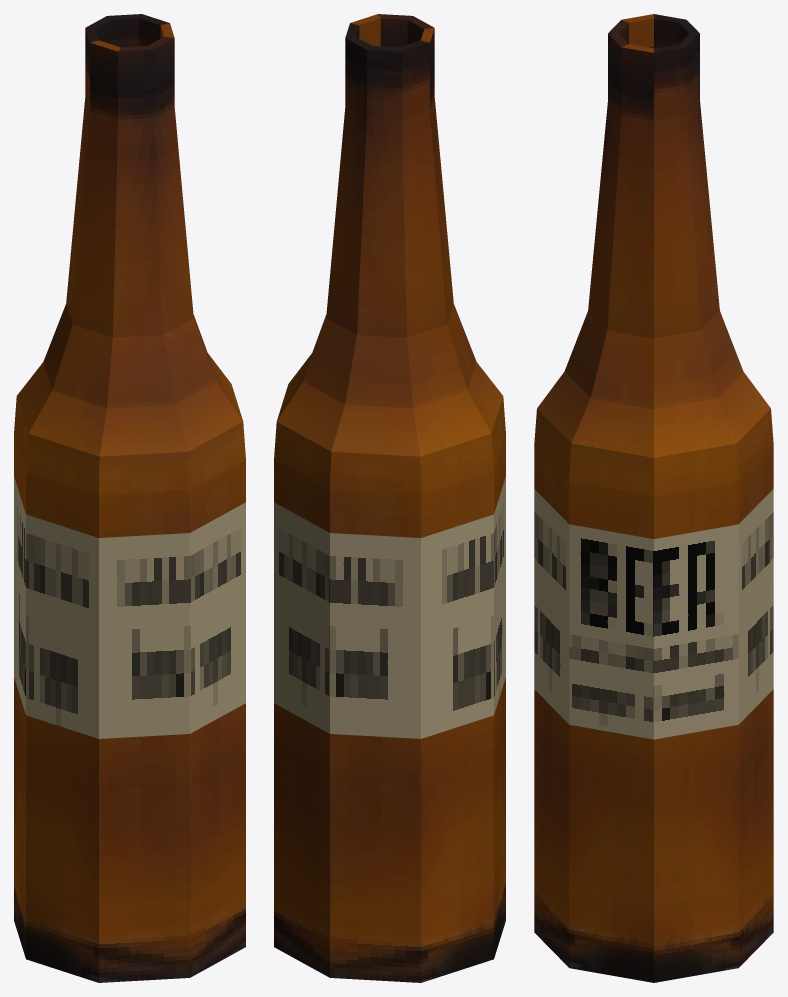
The model's file is bottle.glb.
The picture shows the model from 3 angles, left to right: view 1: azimuth 30°, elevation 25°; view 2: azimuth 150°, elevation 25°; view 3: azimuth 270°, elevation 25°; orthographic projection.
Visible parts, largest first — view 1: Cylinder, Cylinder.001; view 2: Cylinder, Cylinder.001; view 3: Cylinder, Cylinder.001.
Boxes of the visible parts, <box> form: Cylinder: <box>14,14,245,982</box>; Cylinder.001: <box>14,476,245,738</box>; Cylinder: <box>274,14,505,982</box>; Cylinder.001: <box>274,476,505,738</box>; Cylinder: <box>534,14,773,982</box>; Cylinder.001: <box>534,489,773,739</box>.
Bounding box in the file's own units: 0.952 × 3.94 × 0.952.
Materials: 2 (2 with a texture image).
